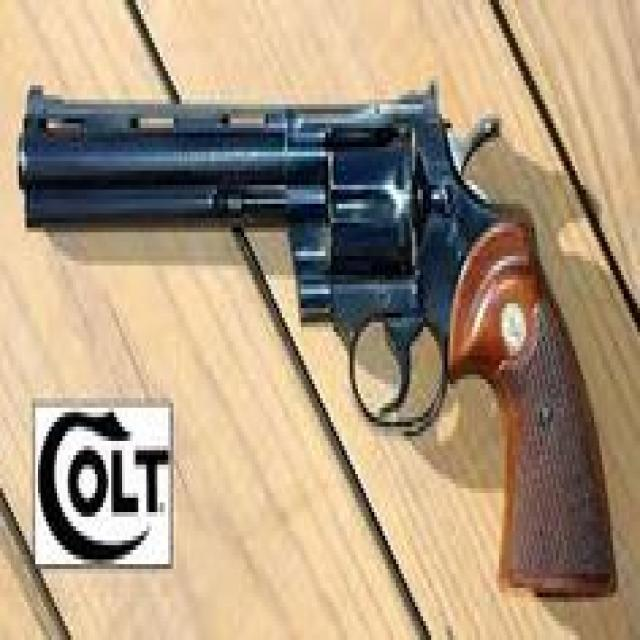revolver: (6, 53, 626, 614)
